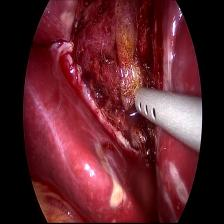Irrigator: (134, 84, 171, 134)
